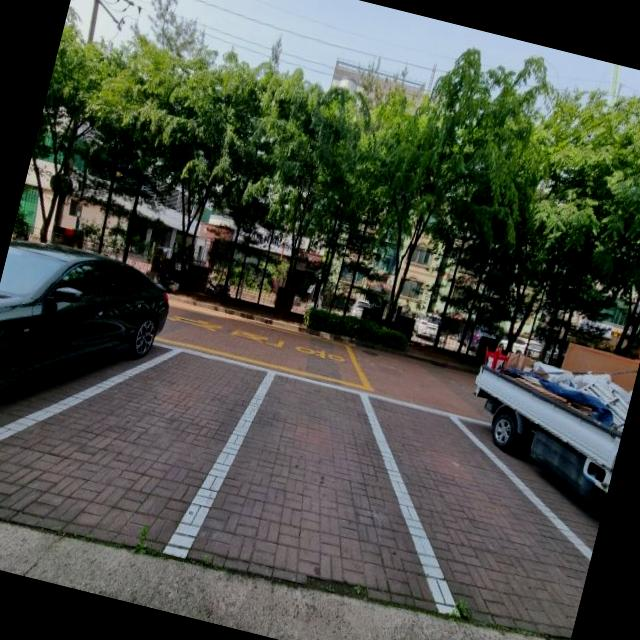car: (0, 236, 177, 477)
free: (187, 360, 468, 628), (321, 394, 616, 640), (0, 297, 273, 562)
